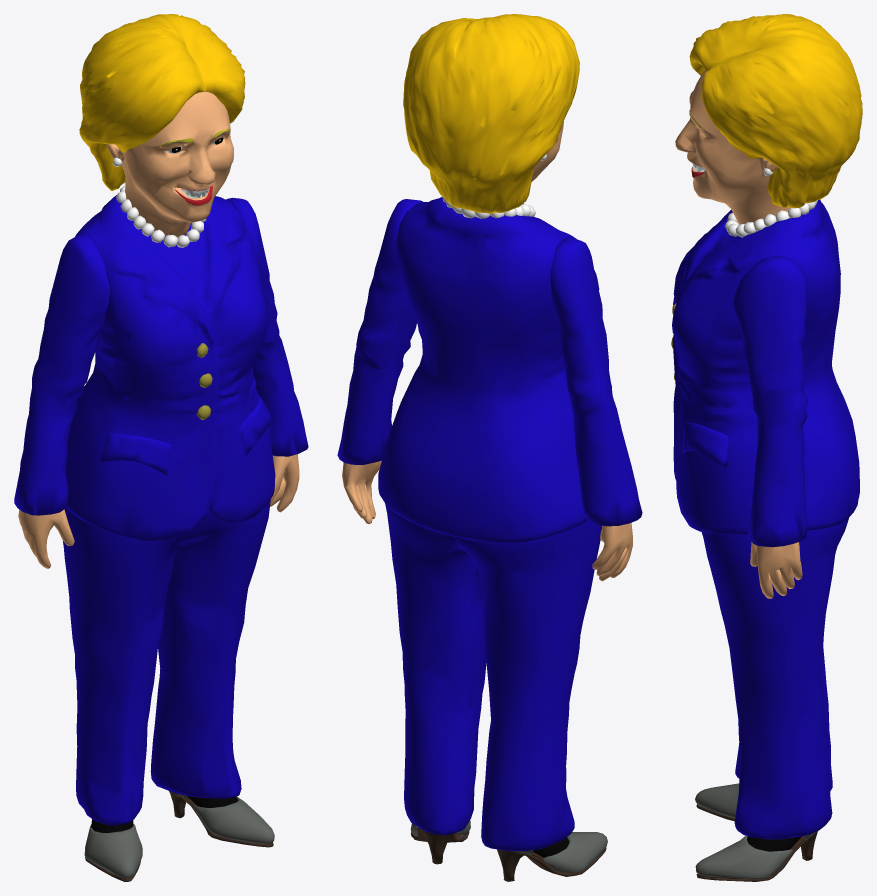
The model's file is clinton.dae.
3 views of the same model, side by side, from view 1: azimuth 30°, elevation 25°; view 2: azimuth 150°, elevation 25°; view 3: azimuth 270°, elevation 25° (orthographic). The views are drawn at different scales.
Parts seen in each view (by area): view 1: hillary-action-figure; view 2: hillary-action-figure; view 3: hillary-action-figure.
Part boxes in pixels (x1,y1,x2,y2): hillary-action-figure: (14, 14, 308, 881); hillary-action-figure: (337, 14, 642, 881); hillary-action-figure: (671, 14, 862, 881).
Bounding box in the file's own units: 0.6174 × 0.3553 × 1.67.
